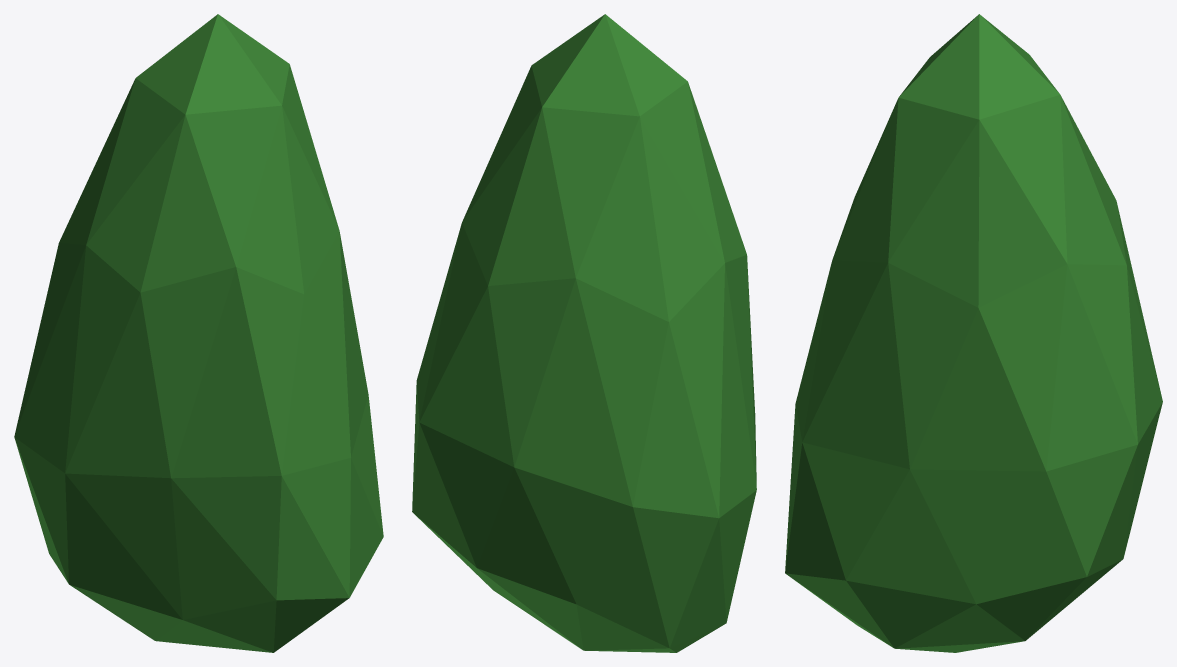
The model's file is Bush01.fbx.
3 views of the same model, side by side, from view 1: azimuth 30°, elevation 25°; view 2: azimuth 150°, elevation 25°; view 3: azimuth 270°, elevation 25° (orthographic). The views are drawn at different scales.
Visible parts, largest first — view 1: Bush01; view 2: Bush01; view 3: Bush01.
Part boxes in pixels (x1,y1,x2,y2): Bush01: [14, 14, 383, 652]; Bush01: [412, 14, 756, 652]; Bush01: [785, 14, 1162, 652].
Bounding box in the file's own units: 226 × 428 × 233.
